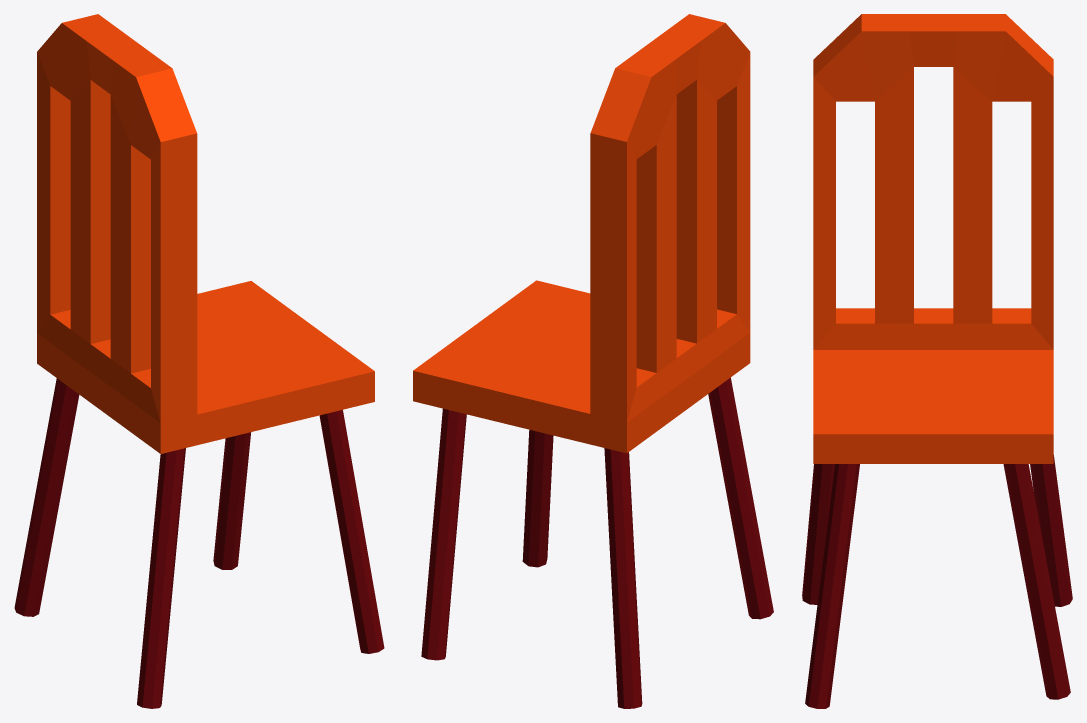
The model's file is Stuhl.fbx.
The picture shows the model from 3 angles, left to right: view 1: azimuth 30°, elevation 25°; view 2: azimuth 150°, elevation 25°; view 3: azimuth 270°, elevation 25°; orthographic projection. The views are drawn at different scales.
Parts seen in each view (by area): view 1: Sitz, Stuhlbeine; view 2: Sitz, Stuhlbeine; view 3: Sitz, Stuhlbeine.
Part boxes in pixels (x1,y1,x2,y2): Sitz: (37, 14, 374, 453); Stuhlbeine: (14, 378, 384, 708); Sitz: (413, 14, 750, 453); Stuhlbeine: (421, 377, 773, 708); Sitz: (813, 14, 1053, 463); Stuhlbeine: (802, 455, 1072, 708).
Bounding box in the file's own units: 230 × 543 × 225.
